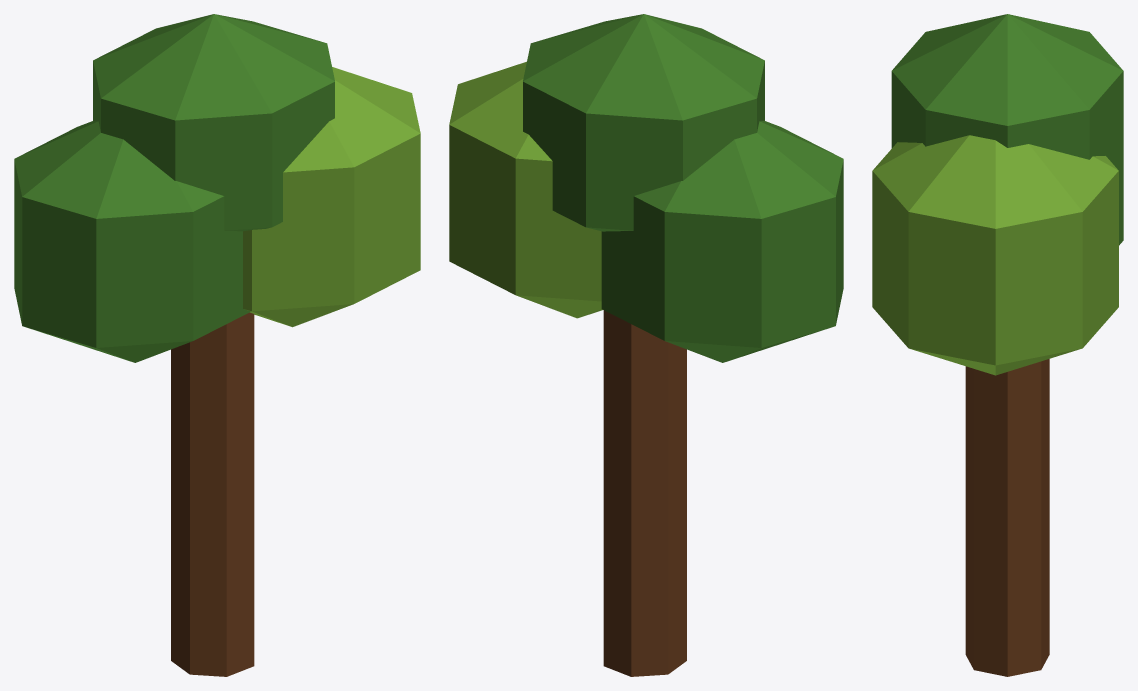
Rendered from oak.obj.
3 renders of one model, left to right at view 1: azimuth 30°, elevation 25°; view 2: azimuth 150°, elevation 25°; view 3: azimuth 270°, elevation 25°, orthographic.
Size of the model in its own units: 1.85 by 2.97 by 1.05.
3 materials, 3 textured.
